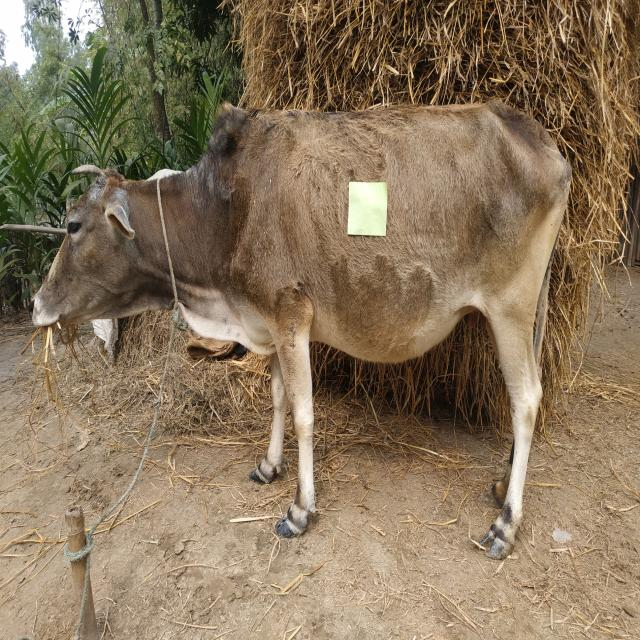badan_sapi: (272, 111, 544, 357)
sapi: (22, 92, 582, 570)
